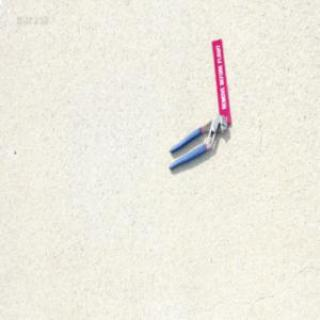LuggageTagtrack_idkeyframe: (210, 36, 230, 123)
Pliertrack_idkeyframe: (167, 113, 226, 170)
